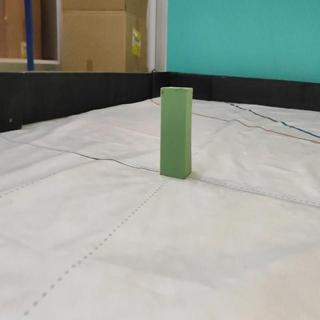greenbox: (159, 85, 194, 179)
